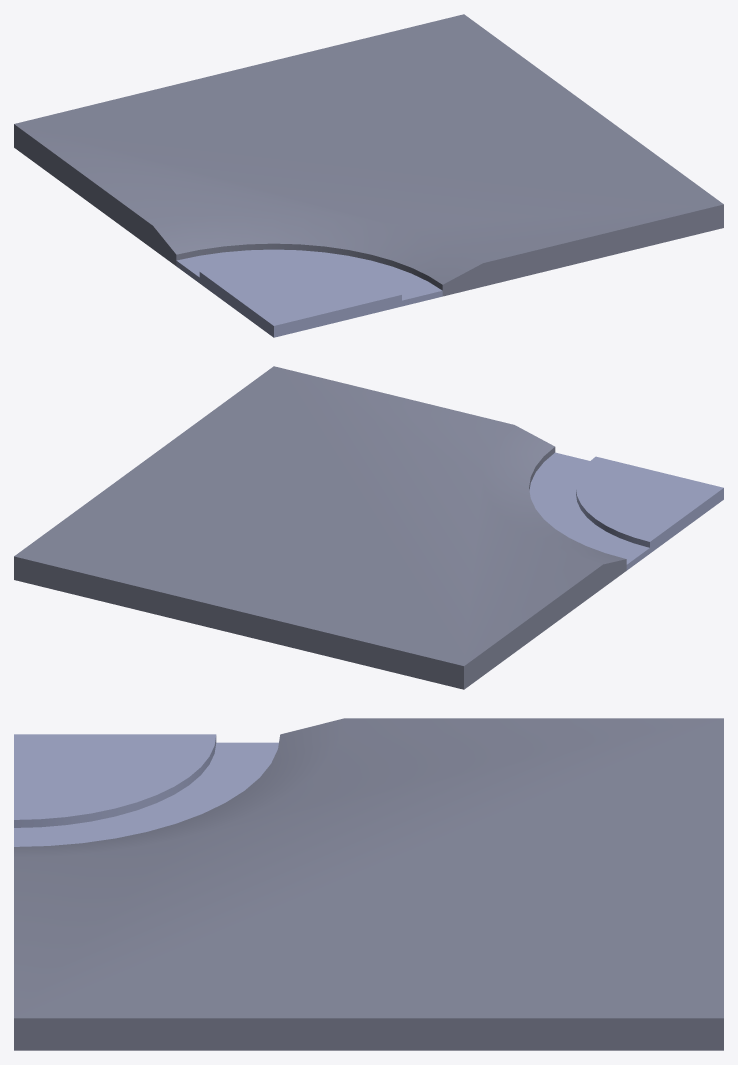
File: road-corner-inner.glb
3 views of the same model, one above another, from view 1: azimuth 30°, elevation 25°; view 2: azimuth 150°, elevation 25°; view 3: azimuth 270°, elevation 25° (orthographic). The views are drawn at different scales.
Visible parts, largest first — view 1: road-corner-inner; view 2: road-corner-inner; view 3: road-corner-inner.
Part boxes in pixels (left/top/right/bottom): road-corner-inner: left=14, top=14, right=723, bottom=337; road-corner-inner: left=14, top=366, right=723, bottom=689; road-corner-inner: left=14, top=718, right=723, bottom=1050.
Size of the model in its own units: 1 by 0.05 by 1.
1 material, 1 textured.
